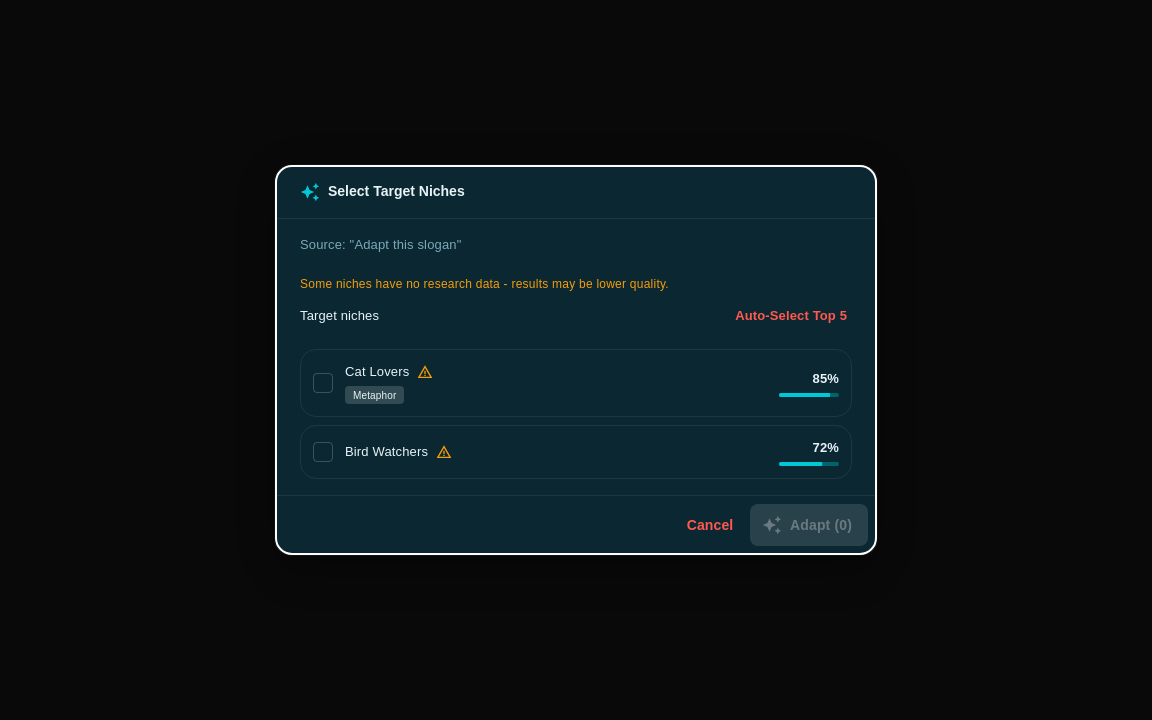
Test: AdaptationModal › enables confirm button after selecting a niche
Click the text "Cat Lovers". click: (377, 372)
box: [345,362,409,382]
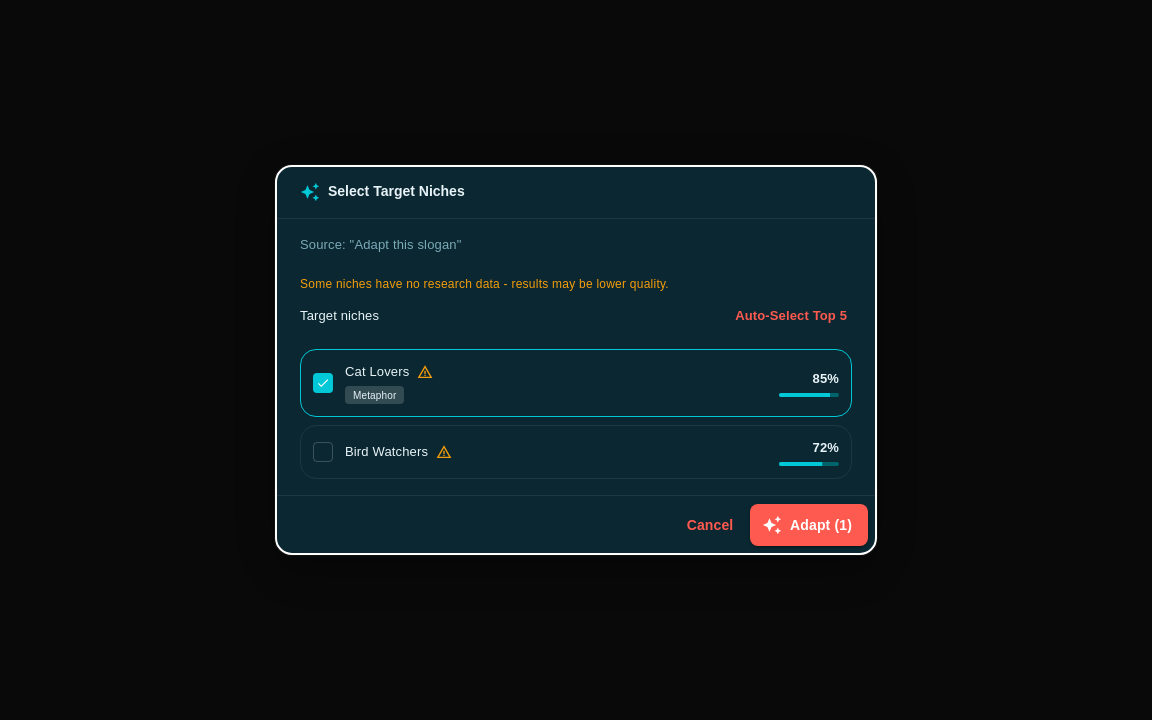
Check: the button "Adapt (1)" is enabled, box [750,504,868,546]
